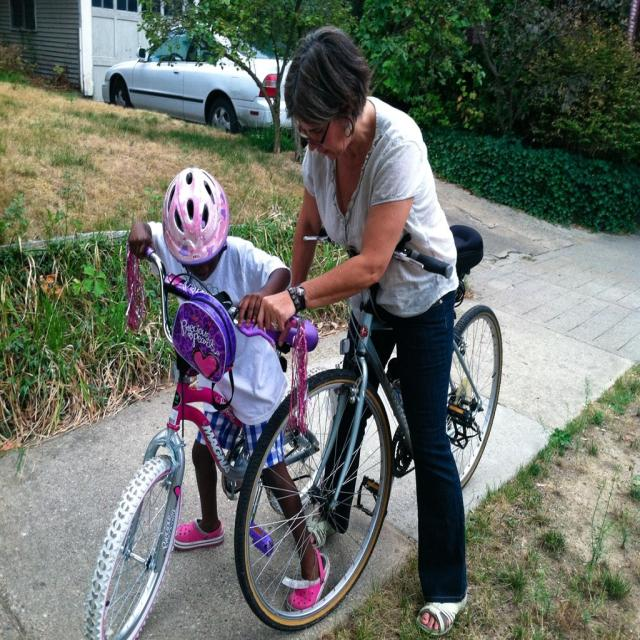helmet: (158, 209, 232, 281)
no_helmet: (274, 99, 374, 166)
